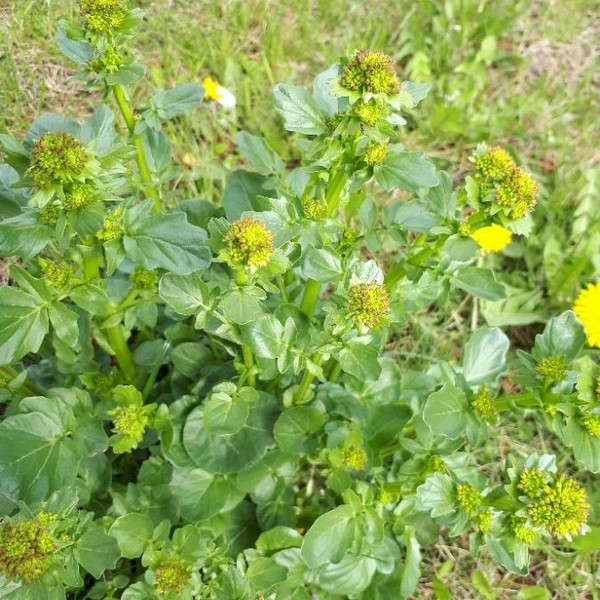obstacle: (71, 117, 507, 566)
